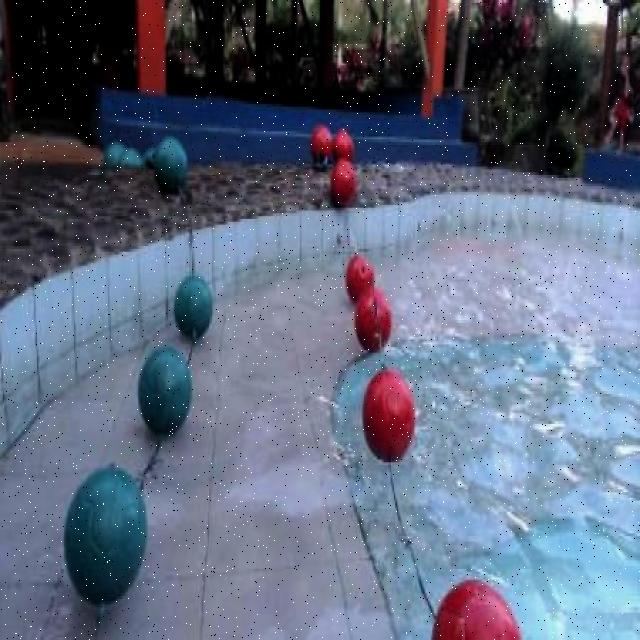buoy: (62, 462, 147, 604), (430, 577, 521, 638), (361, 367, 414, 459), (136, 344, 190, 432), (172, 271, 212, 336), (353, 284, 392, 350), (154, 134, 188, 195), (344, 249, 376, 299), (329, 155, 356, 201), (310, 124, 330, 160), (333, 127, 353, 163)
